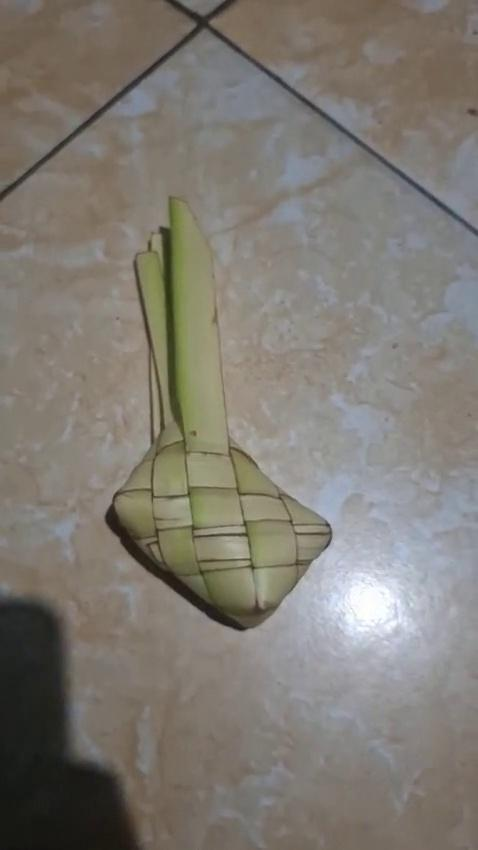Tipat Bantal: (96, 187, 331, 638)
